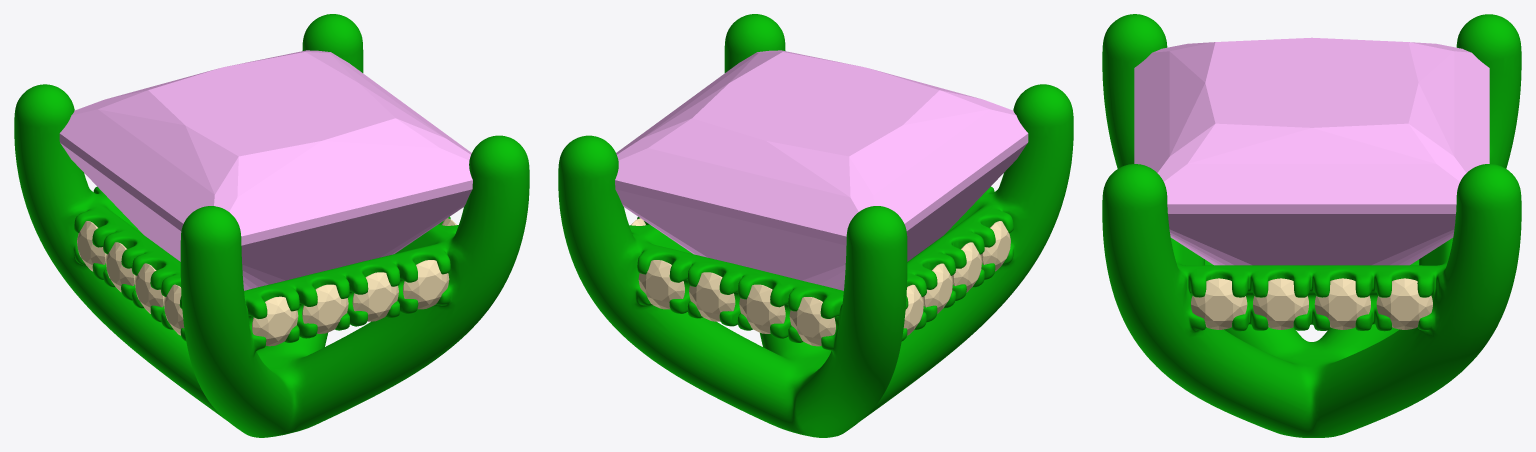
3 views of the same model, side by side, from view 1: azimuth 30°, elevation 25°; view 2: azimuth 150°, elevation 25°; view 3: azimuth 270°, elevation 25° (orthographic). The views are drawn at different scales.
Parts seen in each view (by area): view 1: Metal01, Diamond_Princess, Diamond_Round, Diamond_Round.001, Diamond_Round.003, Diamond_Round.002, Diamond_Round.012, Diamond_Round.014, Diamond_Round.013, Diamond_Round.015; view 2: Metal01, Diamond_Princess, Diamond_Round.007, Diamond_Round.004, Diamond_Round.005, Diamond_Round.006, Diamond_Round.015, Diamond_Round.014, Diamond_Round.013, Diamond_Round.012; view 3: Diamond_Princess, Metal01, Diamond_Round.011, Diamond_Round.008, Diamond_Round.010, Diamond_Round.009.
Part boxes in pixels (<box>): Metal01: <box>14,14,529,437</box>; Diamond_Princess: <box>59,50,472,290</box>; Diamond_Round: <box>252,296,298,346</box>; Diamond_Round.001: <box>302,284,348,333</box>; Diamond_Round.003: <box>402,260,449,309</box>; Diamond_Round.002: <box>352,272,398,321</box>; Diamond_Round.012: <box>77,221,107,271</box>; Diamond_Round.014: <box>135,263,165,313</box>; Diamond_Round.013: <box>106,242,136,292</box>; Diamond_Round.015: <box>164,284,184,335</box>; Metal01: <box>558,14,1073,437</box>; Diamond_Princess: <box>615,50,1028,290</box>; Diamond_Round.007: <box>789,297,835,346</box>; Diamond_Round.004: <box>638,260,684,309</box>; Diamond_Round.005: <box>689,272,735,321</box>; Diamond_Round.006: <box>739,284,785,333</box>; Diamond_Round.015: <box>980,221,1010,271</box>; Diamond_Round.014: <box>951,242,981,292</box>; Diamond_Round.013: <box>922,263,952,313</box>; Diamond_Round.012: <box>903,284,923,335</box>; Diamond_Princess: <box>1134,37,1489,265</box>; Metal01: <box>1102,14,1521,437</box>; Diamond_Round.011: <box>1376,278,1432,329</box>; Diamond_Round.008: <box>1191,278,1247,329</box>; Diamond_Round.010: <box>1314,278,1370,329</box>; Diamond_Round.009: <box>1253,278,1308,329</box>.
Bounding box in the file's own units: 8.2 × 7.35 × 8.2.
